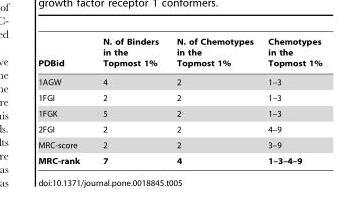table: (37, 37, 321, 165)
table column: (166, 37, 260, 165), (90, 37, 166, 165), (260, 37, 321, 165), (37, 37, 90, 165)
table column header: (37, 37, 321, 72)
table row: (37, 37, 321, 72), (37, 72, 321, 89), (37, 89, 321, 105), (37, 105, 321, 121), (37, 121, 321, 137), (37, 137, 321, 152), (37, 152, 321, 165)
